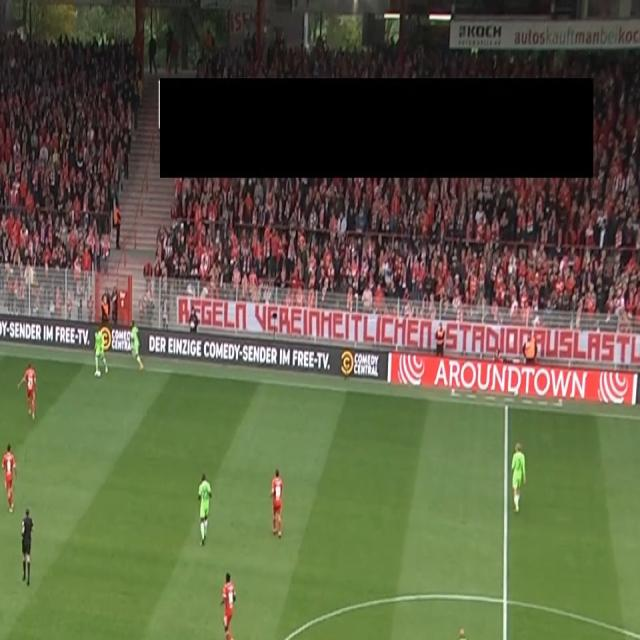ball: (95, 368, 102, 380)
